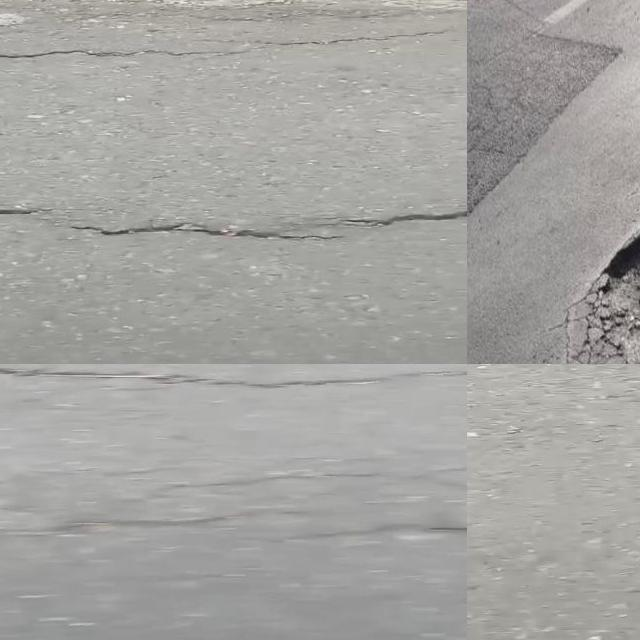Melintang: (0, 197, 467, 257), (0, 364, 467, 403)
